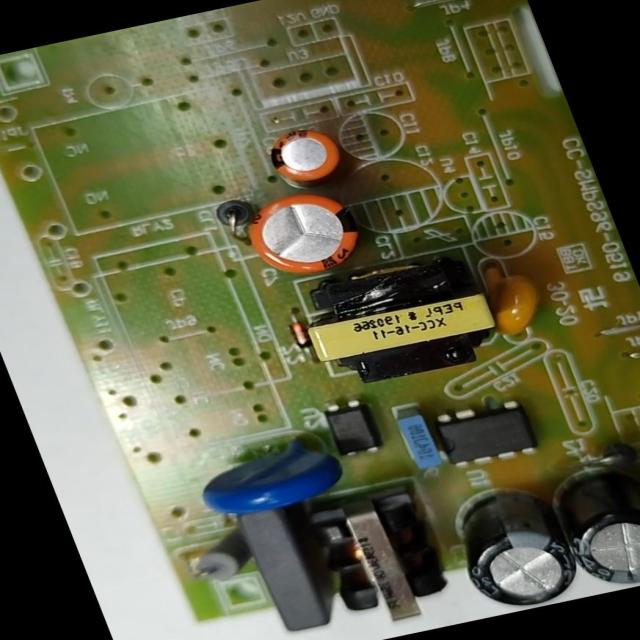Cap1: (231, 179, 376, 288)
Cap2: (256, 118, 359, 197)
Cap3: (436, 479, 592, 618)
Cap4: (538, 452, 640, 596)
MOSFET: (414, 390, 551, 478)
Mov: (176, 428, 366, 530)
Resistor: (181, 522, 265, 588)
Transformer: (277, 239, 518, 394), (278, 472, 470, 638)
